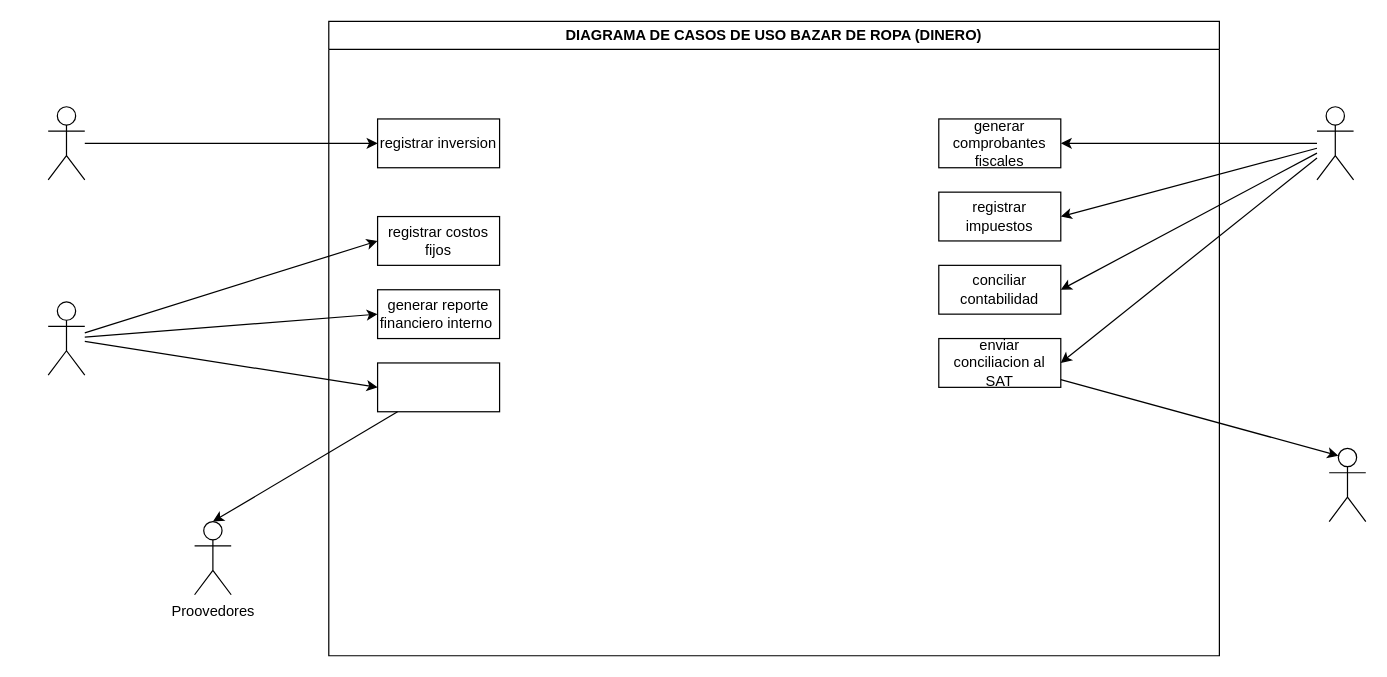
Some shapes in this 1387 by 677 pixel diagram are drawn without their labels. Here are the shapes that lost their labels. From the top down, the centre of each, then its label:
At (x=66, y=143): "Inversionista".
At (x=1335, y=143): "Contador".
At (x=66, y=338): "Administrador".
At (x=438, y=387): "pagar a proovedores".
At (x=1347, y=484): "SAT".
